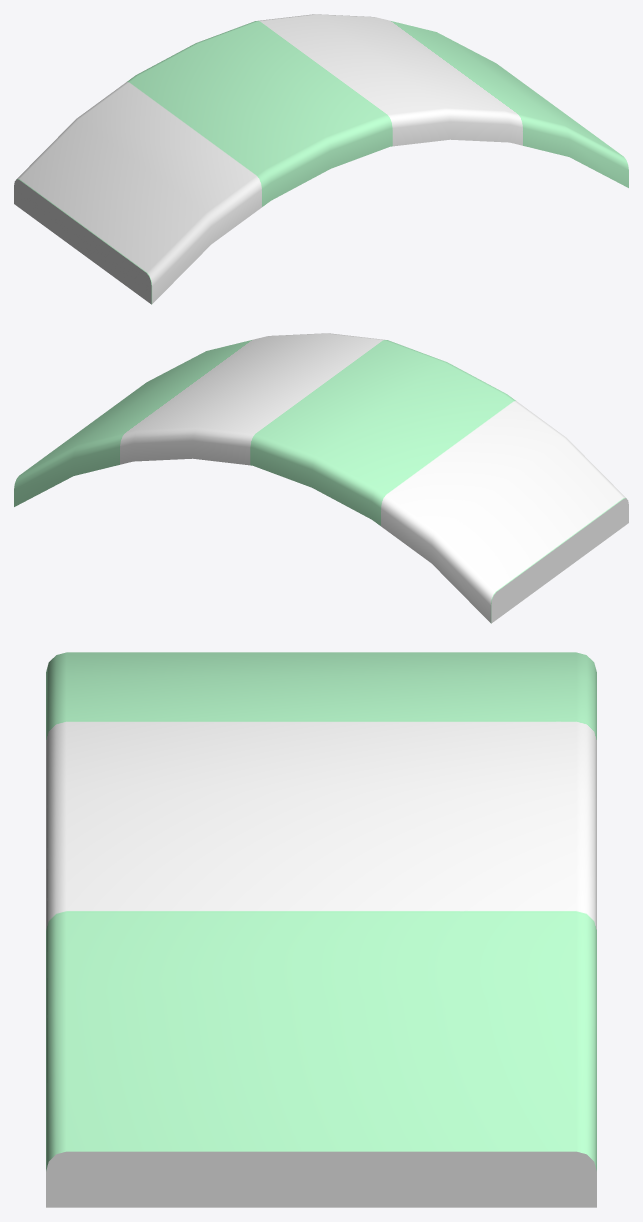
File: RoadUp_green.fbx
3 renders of one model, top to bottom at view 1: azimuth 30°, elevation 25°; view 2: azimuth 150°, elevation 25°; view 3: azimuth 270°, elevation 25°, orthographic. The views are drawn at different scales.
Parts seen in each view (by area): view 1: RoadUp_green; view 2: RoadUp_green; view 3: RoadUp_green.
Boxes of the visible parts, box(x1,y1,x2,y2) form: RoadUp_green: box(14, 14, 628, 304); RoadUp_green: box(14, 333, 628, 623); RoadUp_green: box(46, 652, 596, 1207).
Size of the model in its own units: 600 by 154 by 300.
Materials: 1 (1 with a texture image).
